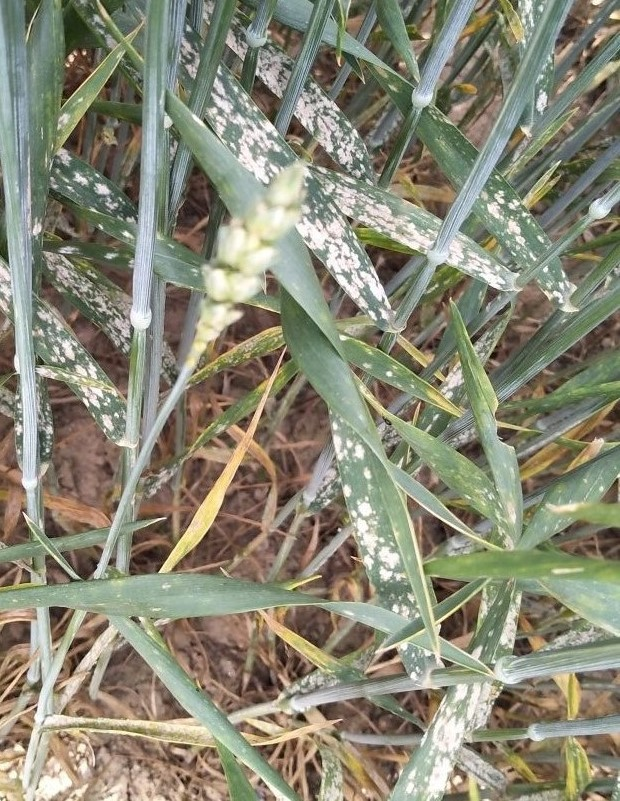Powdery Mildew: (241, 64, 462, 306), (39, 245, 143, 448), (337, 442, 414, 588)
